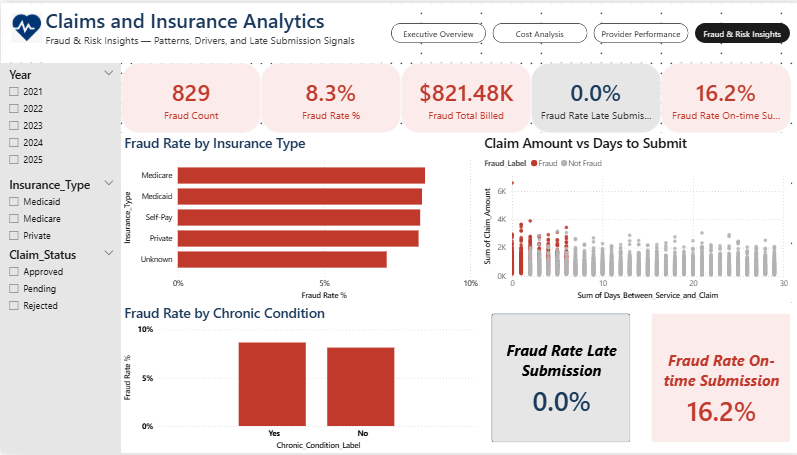

Layout of this report page (visuals, bound fields, positions):
{"tool":"powerbi","page":{"name":"Fraud & Risk Insights","canvas":[1280,720],"ordinal":3},"visuals":[{"type":"group","id":"g1","title":"Group 1","box":[0,0,1264,96],"z":0},{"type":"textbox","box":[65.7,0,541.7,96],"z":0,"group":"g1"},{"type":"pageNavigator","box":[623.8,32,640.2,32],"z":1000,"group":"g1"},{"type":"slicer","fields":{"Values":["DateTable.Year"]},"box":[0,96,192,176],"z":1000},{"type":"image","box":[0,16,82.1,48],"z":2000,"group":"g1"},{"type":"slicer","fields":{"Values":["healthcare_claims_cleaned.Insurance_Type"]},"box":[0,272,192,192],"z":2000},{"type":"slicer","fields":{"Values":["healthcare_claims_cleaned.Claim_Status"]},"box":[0,384,192,336],"z":3000},{"type":"card","fields":{"Values":["healthcare_claims_cleaned.Fraud Count"]},"box":[192,96,224,112],"z":4000},{"type":"card","fields":{"Values":["healthcare_claims_cleaned.Fraud Rate %"]},"box":[416,96,224,112],"z":5000},{"type":"card","fields":{"Values":["healthcare_claims_cleaned.Fraud Total Billed"]},"box":[640,96,208,112],"z":6000},{"type":"card","fields":{"Values":["healthcare_claims_cleaned.Fraud Rate Late Submission"]},"box":[848,96,208,112],"z":7000},{"type":"card","fields":{"Values":["healthcare_claims_cleaned.Fraud Rate On-time Submission"]},"box":[1056,96,208,112],"z":8000},{"type":"barChart","title":"Fraud Rate by Insurance Type","fields":{"Category":["healthcare_claims_cleaned.Insurance_Type"],"Y":["healthcare_claims_cleaned.Fraud Rate %"]},"box":[192,208,576,272],"z":9000},{"type":"clusteredColumnChart","title":"Fraud Rate by Chronic Condition","fields":{"Category":["healthcare_claims_cleaned.Chronic_Condition_Label"],"Y":["healthcare_claims_cleaned.Fraud Rate %"]},"box":[192,480,576,240],"z":10000},{"type":"scatterChart","title":"Claim Amount vs Days to Submit","fields":{"X":["Sum(healthcare_claims_cleaned.Days_Between_Service_and_Claim)"],"Y":["Sum(healthcare_claims_cleaned.Claim_Amount)"],"Series":["healthcare_claims_cleaned.Fraud_Label"],"Category":["healthcare_claims_cleaned.Claim_ID"]},"box":[768,208,496,272],"z":11000},{"type":"cardVisual","fields":{"Data":["healthcare_claims_cleaned.Fraud Rate Late Submission"]},"box":[768,480,256,240],"z":12000},{"type":"cardVisual","fields":{"Data":["healthcare_claims_cleaned.Fraud Rate On-time Submission"]},"box":[1024,480,256,240],"z":13000}]}

Visuals, with their boxes in screenshot pixels (x1, y1, x2, y2), scaled from the page's 1280x720 canvas onto the 797x455 screenshot:
"Group 1" group: locate(0, 0, 787, 61)
textbox: locate(41, 0, 378, 61)
pageNavigator: locate(388, 20, 787, 40)
slicer - DateTable.Year: locate(0, 61, 120, 172)
image: locate(0, 10, 51, 40)
slicer - healthcare_claims_cleaned.Insurance_Type: locate(0, 172, 120, 293)
slicer - healthcare_claims_cleaned.Claim_Status: locate(0, 243, 120, 454)
card - healthcare_claims_cleaned.Fraud Count: locate(120, 61, 259, 131)
card - healthcare_claims_cleaned.Fraud Rate %: locate(259, 61, 398, 131)
card - healthcare_claims_cleaned.Fraud Total Billed: locate(398, 61, 528, 131)
card - healthcare_claims_cleaned.Fraud Rate Late Submission: locate(528, 61, 658, 131)
card - healthcare_claims_cleaned.Fraud Rate On-time Submission: locate(658, 61, 787, 131)
"Fraud Rate by Insurance Type" barChart: locate(120, 131, 478, 303)
"Fraud Rate by Chronic Condition" clusteredColumnChart: locate(120, 303, 478, 454)
"Claim Amount vs Days to Submit" scatterChart: locate(478, 131, 787, 303)
cardVisual - healthcare_claims_cleaned.Fraud Rate Late Submission: locate(478, 303, 638, 454)
cardVisual - healthcare_claims_cleaned.Fraud Rate On-time Submission: locate(638, 303, 796, 454)
